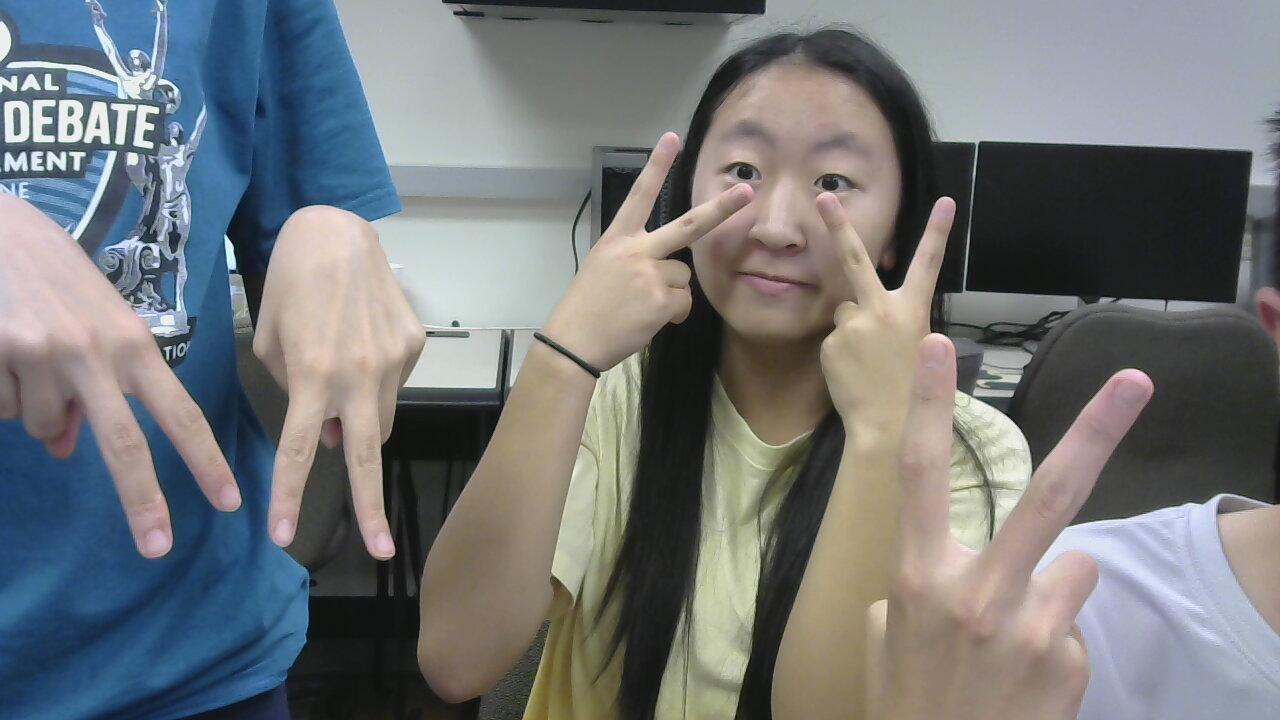peace: (830, 347, 1171, 720), (0, 166, 255, 564), (226, 195, 437, 583), (532, 112, 759, 350), (799, 152, 975, 457)
